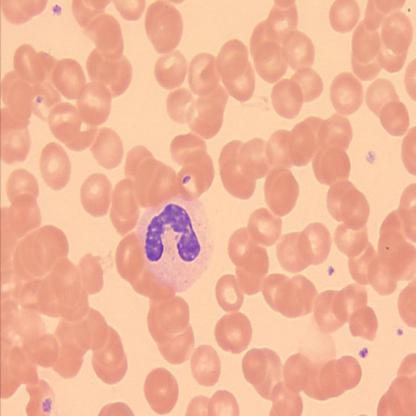Band Neutrophil: (134, 194, 216, 294)
